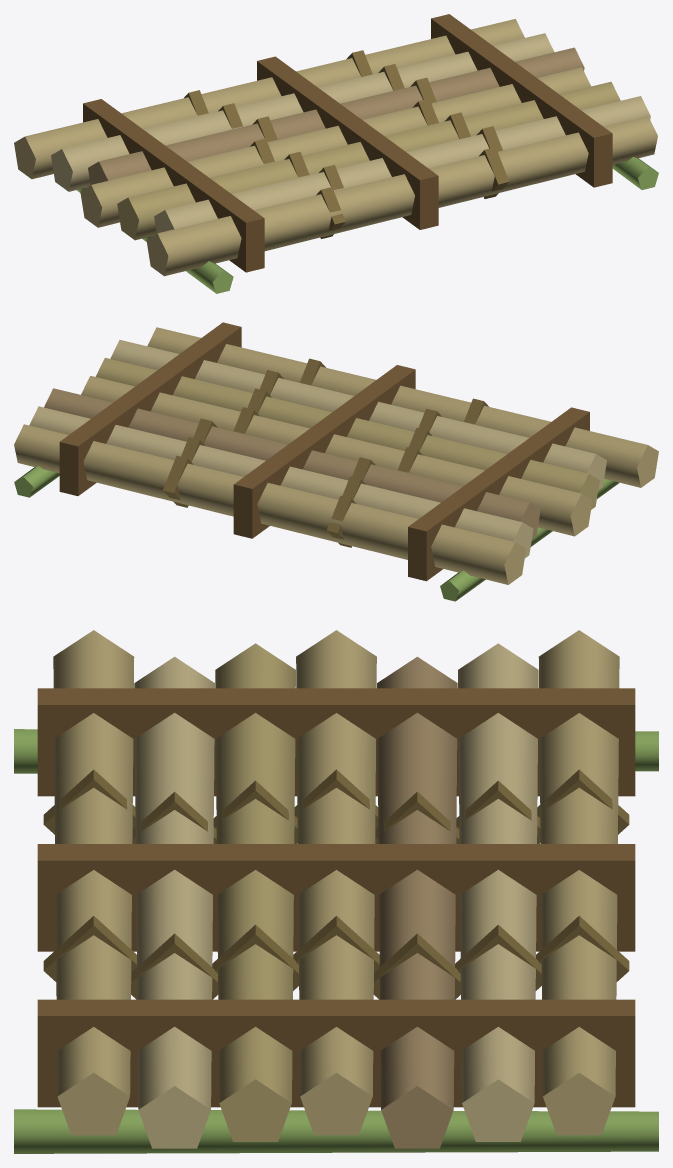
The model's file is raft_reed.glb.
3 renders of one model, top to bottom at view 1: azimuth 30°, elevation 25°; view 2: azimuth 150°, elevation 25°; view 3: azimuth 270°, elevation 25°, orthographic. The views are drawn at different scales.
Parts seen in each view (by area): view 1: body_nl, body; view 2: body_nl, body; view 3: body_nl, body.
Boxes of the visible parts, x1,y1,x2,y2 form: body_nl: (14, 19, 658, 293); body: (83, 14, 612, 272); body_nl: (14, 327, 658, 601); body: (59, 322, 589, 581); body_nl: (14, 630, 658, 1153); body: (37, 688, 635, 1107).
Bounding box in the file's own units: 1.36 × 0.1483 × 0.82.
